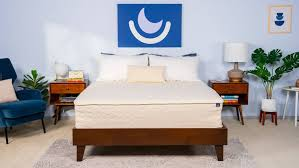bed-matress: (70, 73, 224, 122)
